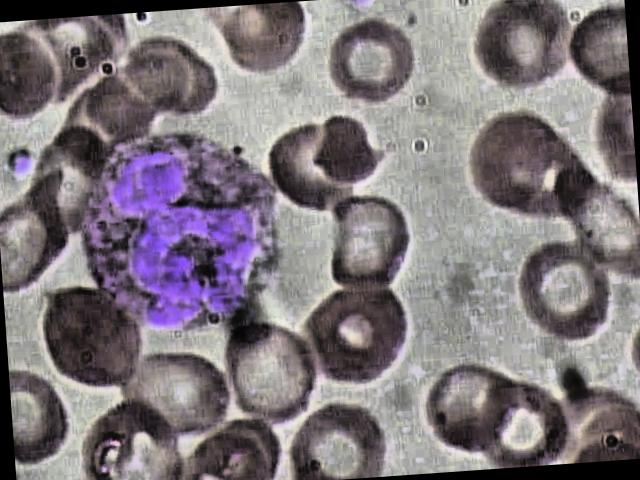Platelets: (2, 148, 38, 178)
RBC: (33, 281, 155, 396), (296, 280, 418, 394), (115, 338, 239, 444), (510, 234, 620, 348), (416, 350, 526, 464), (219, 320, 324, 432), (467, 0, 577, 104), (325, 191, 423, 305), (262, 114, 360, 228), (317, 13, 427, 114), (212, 0, 316, 89), (285, 398, 390, 480), (9, 364, 78, 472), (0, 23, 64, 120), (312, 107, 386, 189)
WBC: (70, 126, 288, 343)
